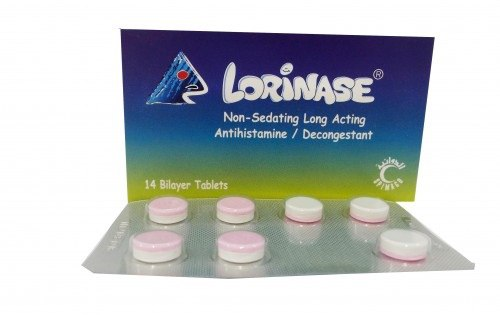Medicine: (115, 24, 443, 213)
